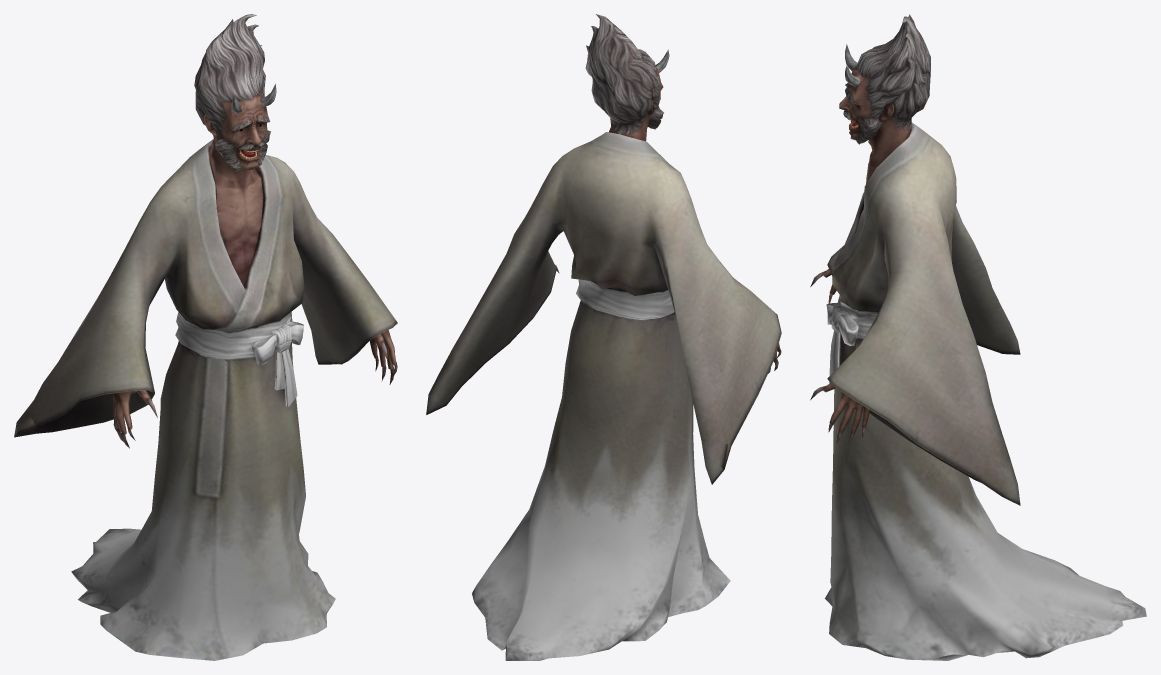
The model's file is 134-shinigami.glb.
3 views of the same model, side by side, from view 1: azimuth 30°, elevation 25°; view 2: azimuth 150°, elevation 25°; view 3: azimuth 270°, elevation 25° (orthographic). The views are drawn at different scales.
Size of the model in its own units: 1.92 by 3.5 by 1.76.
Materials: 1 (1 with a texture image).
